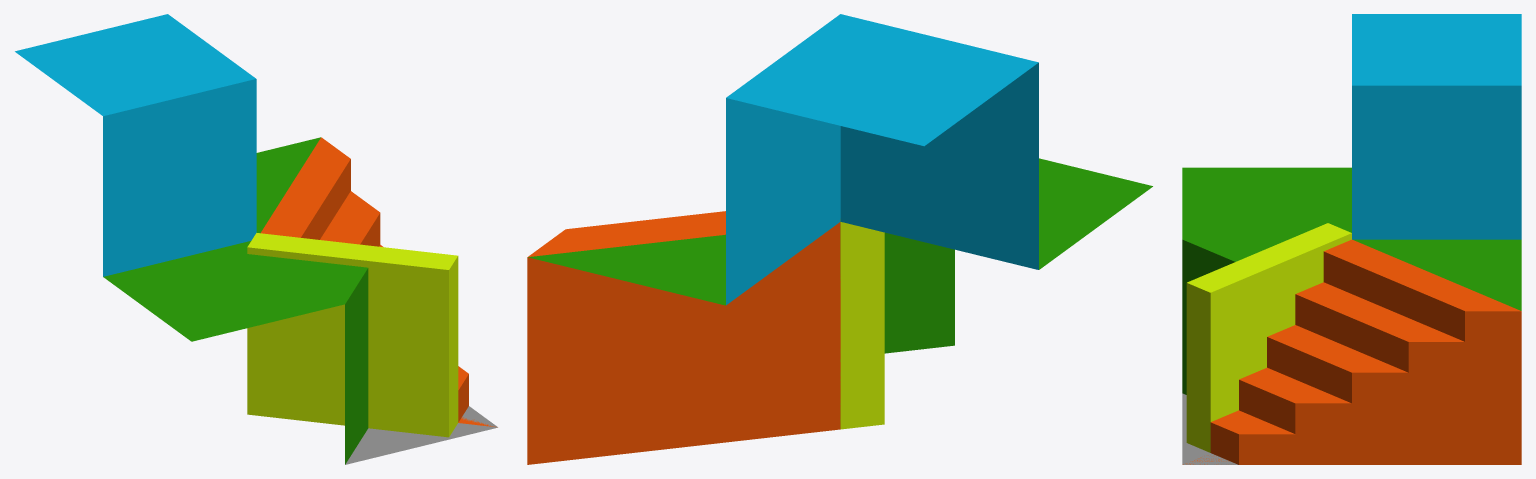
The picture shows the model from 3 angles, left to right: view 1: azimuth 30°, elevation 25°; view 2: azimuth 150°, elevation 25°; view 3: azimuth 270°, elevation 25°; orthographic projection. The views are drawn at different scales.
Visible parts, largest first — view 1: T_27_4_1; view 2: T_27_4_1; view 3: T_27_4_1.
Boxes of the visible parts, left/top/right/bottom form: T_27_4_1: left=15, top=14, right=497, bottom=464; T_27_4_1: left=527, top=14, right=1152, bottom=464; T_27_4_1: left=1182, top=14, right=1521, bottom=464.
Bounding box in the file's own units: 99.79 × 99.81 × 99.81.
